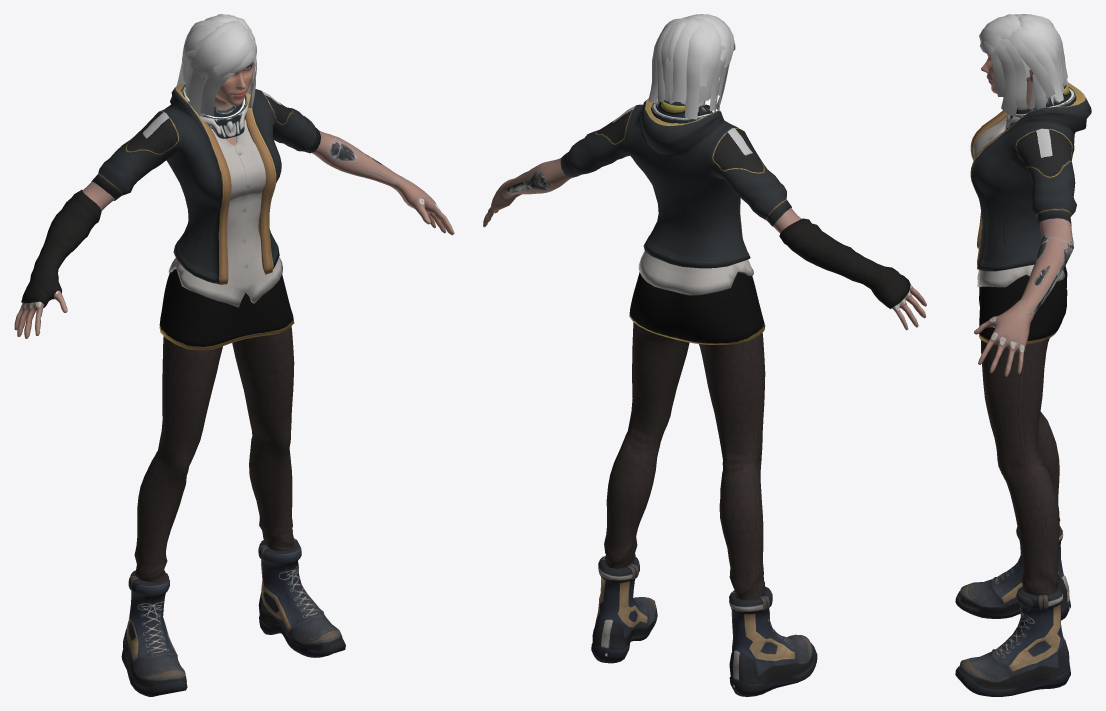
The model's file is Protagonist.FBX.
3 views of the same model, side by side, from view 1: azimuth 30°, elevation 25°; view 2: azimuth 150°, elevation 25°; view 3: azimuth 270°, elevation 25° (orthographic).
Parts seen in each view (by area): view 1: Base; view 2: Base; view 3: Base.
Part boxes in pixels (x1,y1,x2,y2): Base: (14,14,454,696); Base: (483,14,926,696); Base: (955,14,1091,696).
Bounding box in the file's own units: 126 × 180 × 35.01.
